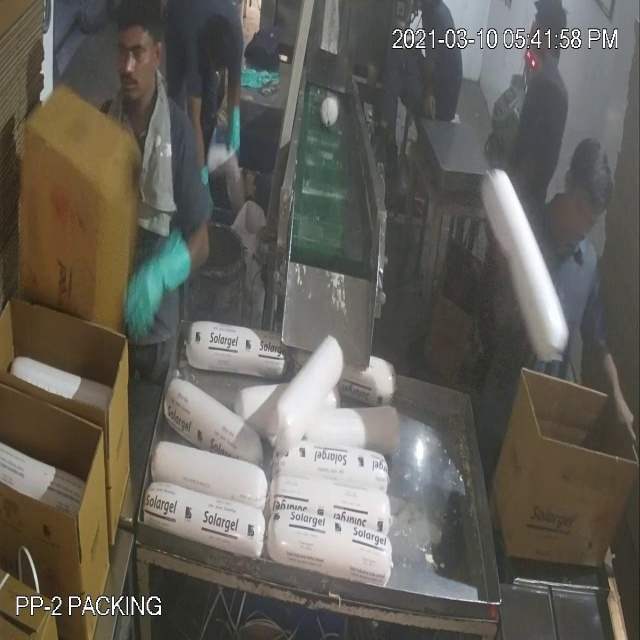Guantes: (110, 214, 196, 349)
Sin_guantes: (583, 311, 638, 466)
